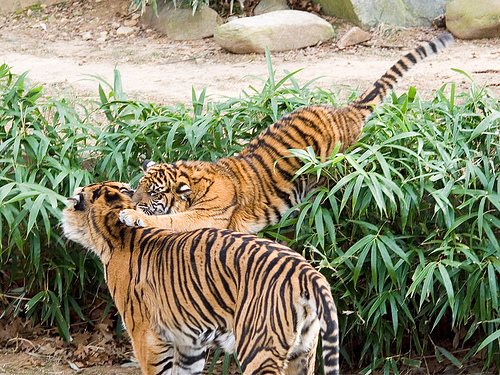Tigre: (46, 197, 349, 364), (165, 88, 375, 254)
